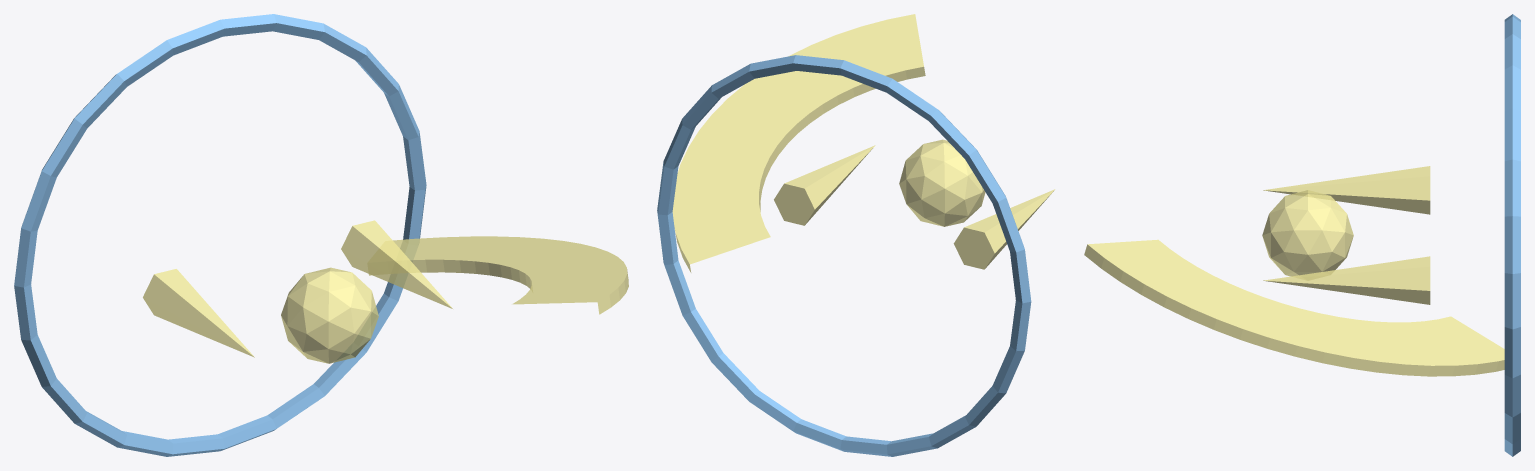
File: 01_special_attack_vfx.glb
The picture shows the model from 3 angles, left to right: view 1: azimuth 30°, elevation 25°; view 2: azimuth 150°, elevation 25°; view 3: azimuth 270°, elevation 25°; orthographic projection. The views are drawn at different scales.
Parts seen in each view (by area): view 1: impact_window_ring, combo_slash_or_magic_arc, timing_core, telegraph_spike_b, telegraph_spike_a; view 2: combo_slash_or_magic_arc, impact_window_ring, timing_core, telegraph_spike_b, telegraph_spike_a; view 3: combo_slash_or_magic_arc, impact_window_ring, timing_core, telegraph_spike_b, telegraph_spike_a.
Part boxes in pixels (box(x1,y1,x2,y2)): impact_window_ring: box(14, 14, 426, 456); combo_slash_or_magic_arc: box(368, 236, 628, 314); timing_core: box(281, 267, 378, 363); telegraph_spike_b: box(341, 220, 452, 308); telegraph_spike_a: box(143, 269, 254, 357); combo_slash_or_magic_arc: box(672, 14, 925, 272); impact_window_ring: box(657, 55, 1031, 456); timing_core: box(899, 139, 985, 226); telegraph_spike_b: box(774, 145, 875, 225); telegraph_spike_a: box(953, 189, 1055, 269); combo_slash_or_magic_arc: box(1084, 239, 1504, 376); impact_window_ring: box(1504, 14, 1520, 456); timing_core: box(1262, 190, 1353, 276); telegraph_spike_b: box(1263, 256, 1430, 304); telegraph_spike_a: box(1263, 166, 1430, 214).
Bounding box in the file's own units: 1.65 × 1.46 × 1.43.
